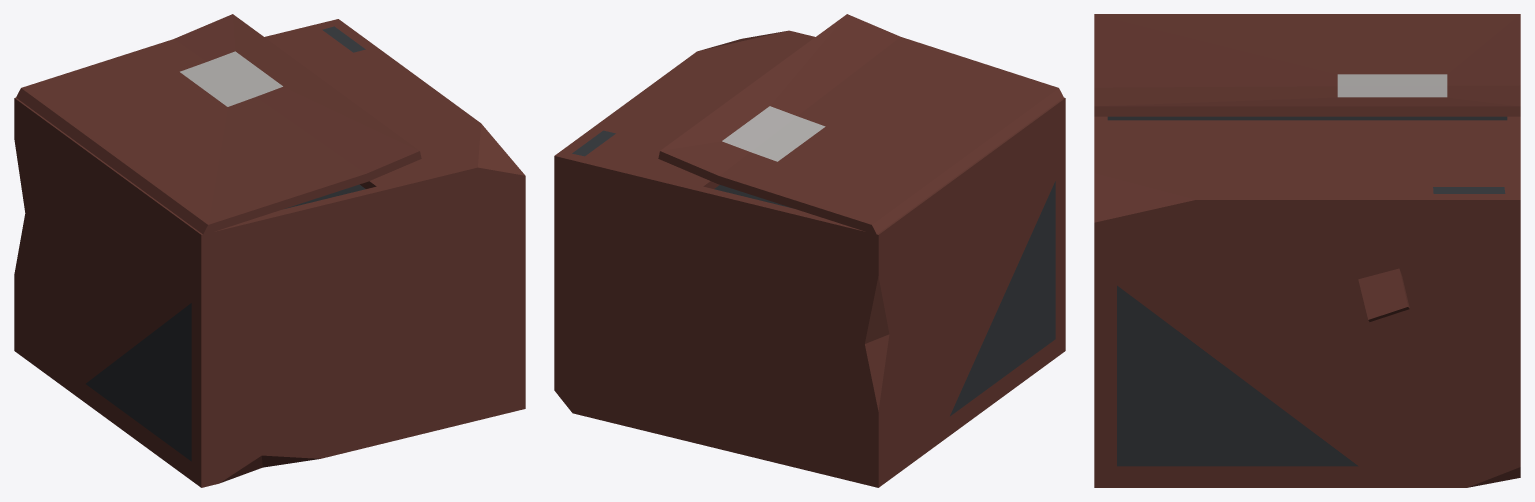
File: SM_Gen_Prop_Cardboard_Box_02.glb
3 renders of one model, left to right at view 1: azimuth 30°, elevation 25°; view 2: azimuth 150°, elevation 25°; view 3: azimuth 270°, elevation 25°, orthographic. The views are drawn at different scales.
Visible parts, largest first — view 1: SM_Gen_Prop_Cardboard_Box_02; view 2: SM_Gen_Prop_Cardboard_Box_02; view 3: SM_Gen_Prop_Cardboard_Box_02.
Boxes of the visible parts, x1,y1,x2,y2 form: SM_Gen_Prop_Cardboard_Box_02: (14, 14, 525, 487); SM_Gen_Prop_Cardboard_Box_02: (554, 14, 1065, 487); SM_Gen_Prop_Cardboard_Box_02: (1094, 14, 1520, 487).
Bounding box in the file's own units: 0.5236 × 0.4177 × 0.4994.
1 material, 1 textured.
